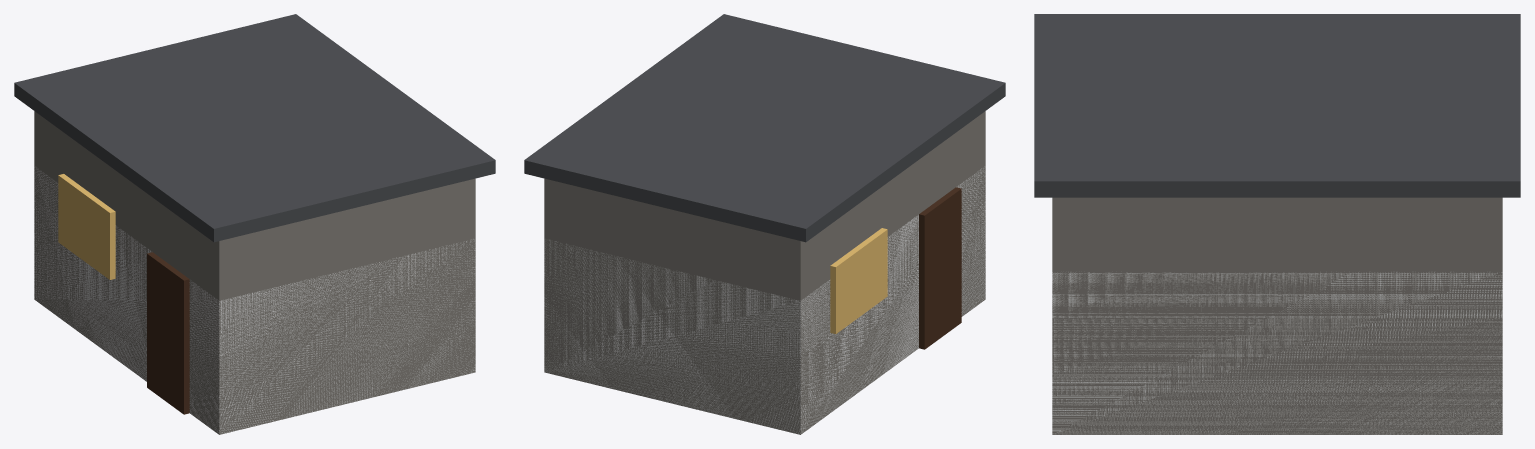
The model's file is factory-gate.glb.
The picture shows the model from 3 angles, left to right: view 1: azimuth 30°, elevation 25°; view 2: azimuth 150°, elevation 25°; view 3: azimuth 270°, elevation 25°; orthographic projection. The views are drawn at different scales.
Parts seen in each view (by area): view 1: 00_#84807a, 01_#4c4e52, solid, 03_#4a3020, 02_#e8c070; view 2: 00_#84807a, 01_#4c4e52, solid, 03_#4a3020, 02_#e8c070; view 3: 00_#84807a, 01_#4c4e52, solid.
Boxes of the visible parts, x1,y1,x2,y2 form: 00_#84807a: (34,111,475,434); 01_#4c4e52: (14,14,495,242); solid: (34,166,475,434); 03_#4a3020: (147,252,189,414); 02_#e8c070: (58,174,115,279); 00_#84807a: (544,111,985,434); 01_#4c4e52: (524,14,1005,242); solid: (544,166,985,434); 03_#4a3020: (919,187,961,349); 02_#e8c070: (830,228,887,333); 00_#84807a: (1052,197,1502,434); 01_#4c4e52: (1034,14,1520,197); solid: (1052,272,1502,434).
Bounding box in the file's own units: 4.4 × 3.2 × 5.4.
